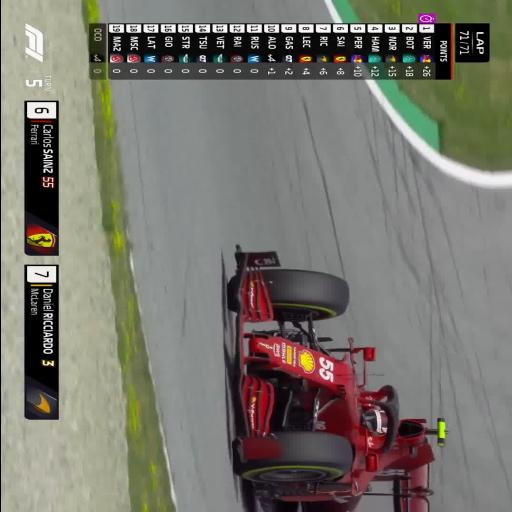f1_car: (228, 246, 445, 512)
